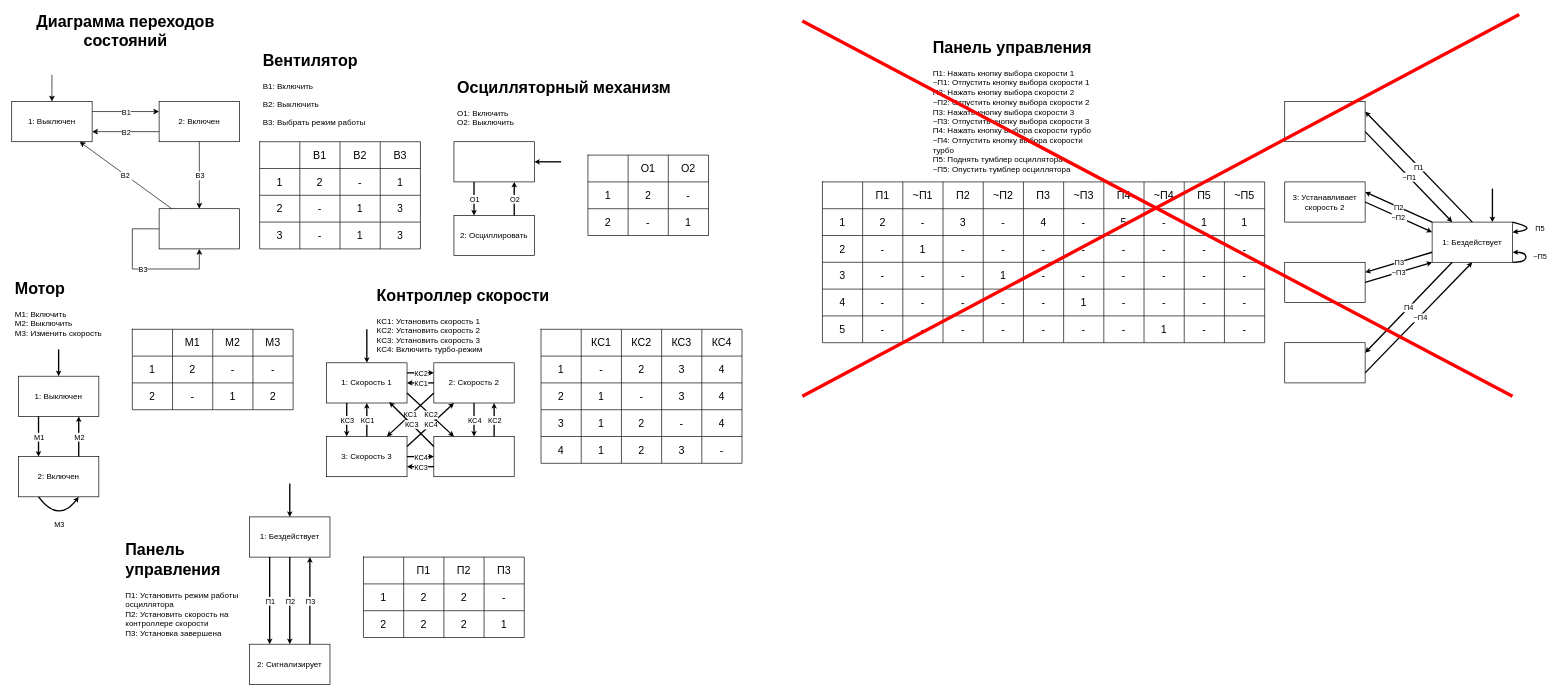
Image size: 1558x696. Some labels were removed from this diagram. Each missing label, with the centre of its shape:
1: Бездействовать: the point at 493,161
2: Устанавливает скорость 1: the point at 1324,121
3: Работает: the point at 199,228
4: Турбо: the point at 473,456
4: Устанавливает скорость 3: the point at 1324,282
5: Устанавливает скорость турбо: the point at 1324,362
